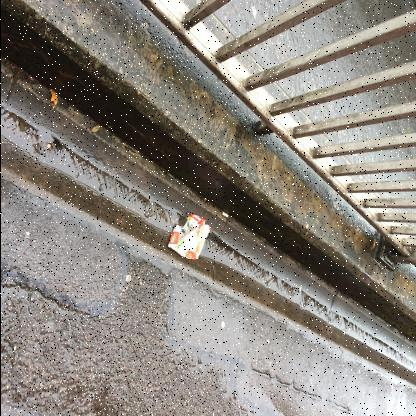cardboard: (166, 213, 212, 260)
